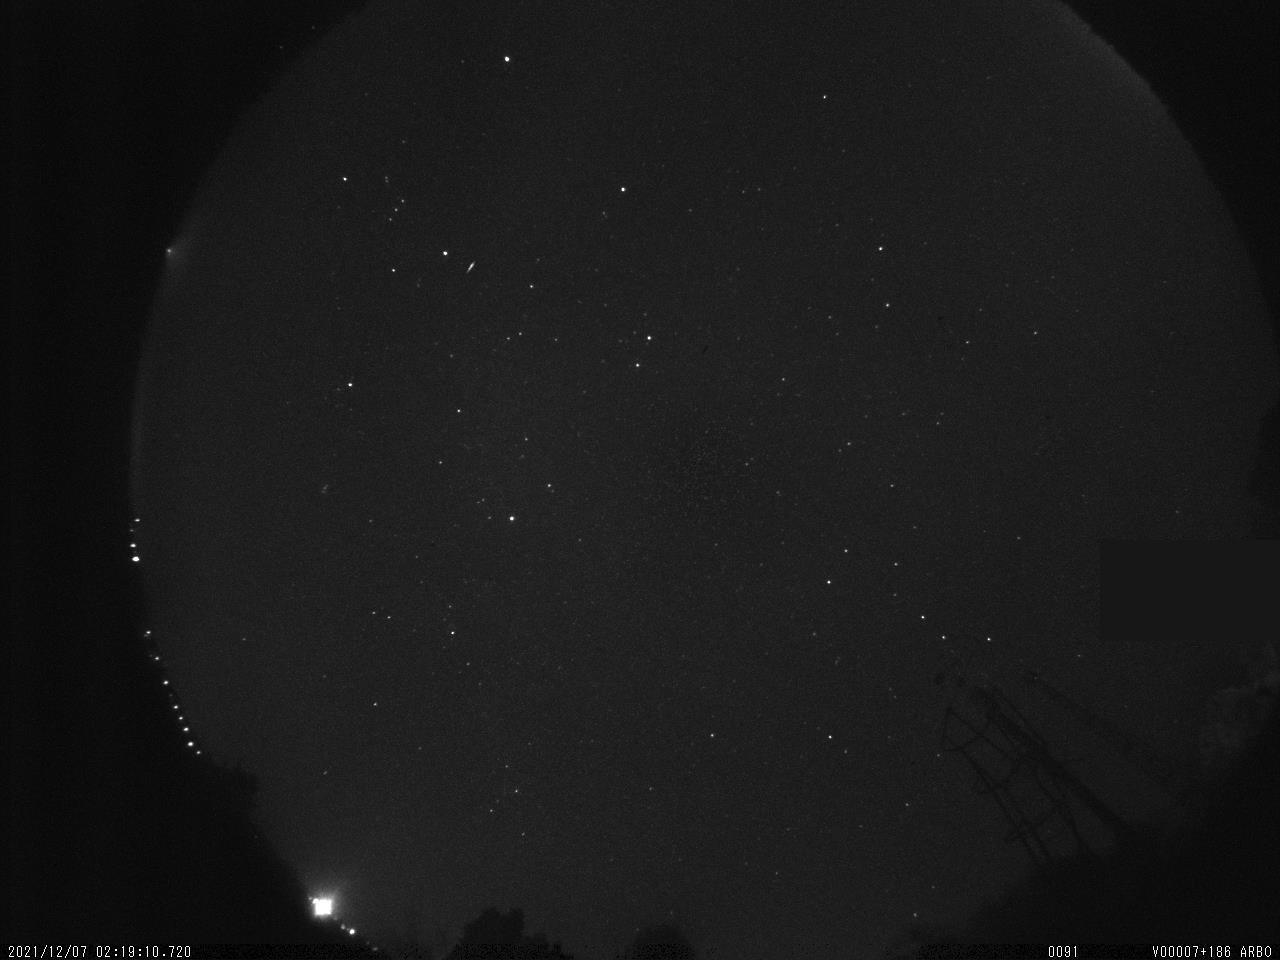meteor: (463, 256, 478, 281)
